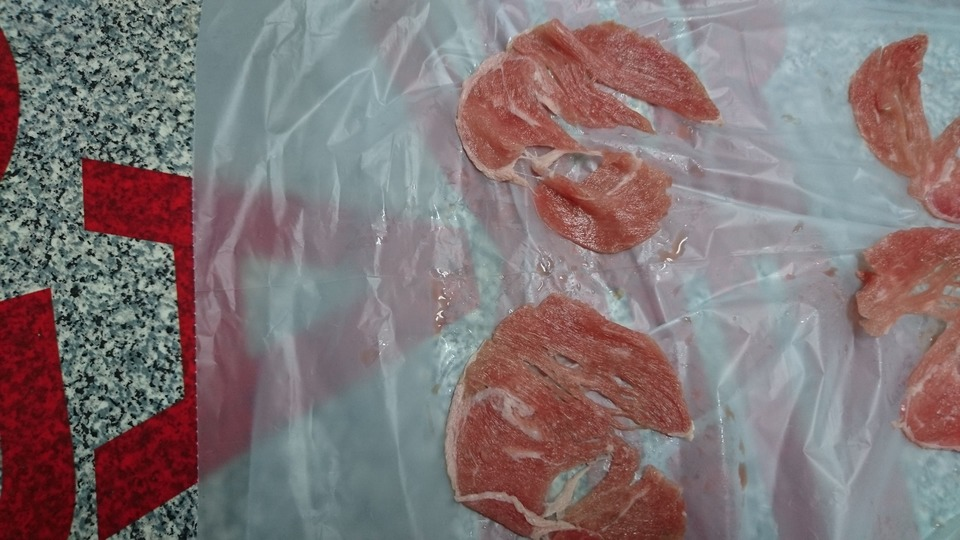restructured meat: (431, 285, 701, 535), (447, 30, 723, 262), (842, 230, 960, 452), (842, 20, 960, 225)
